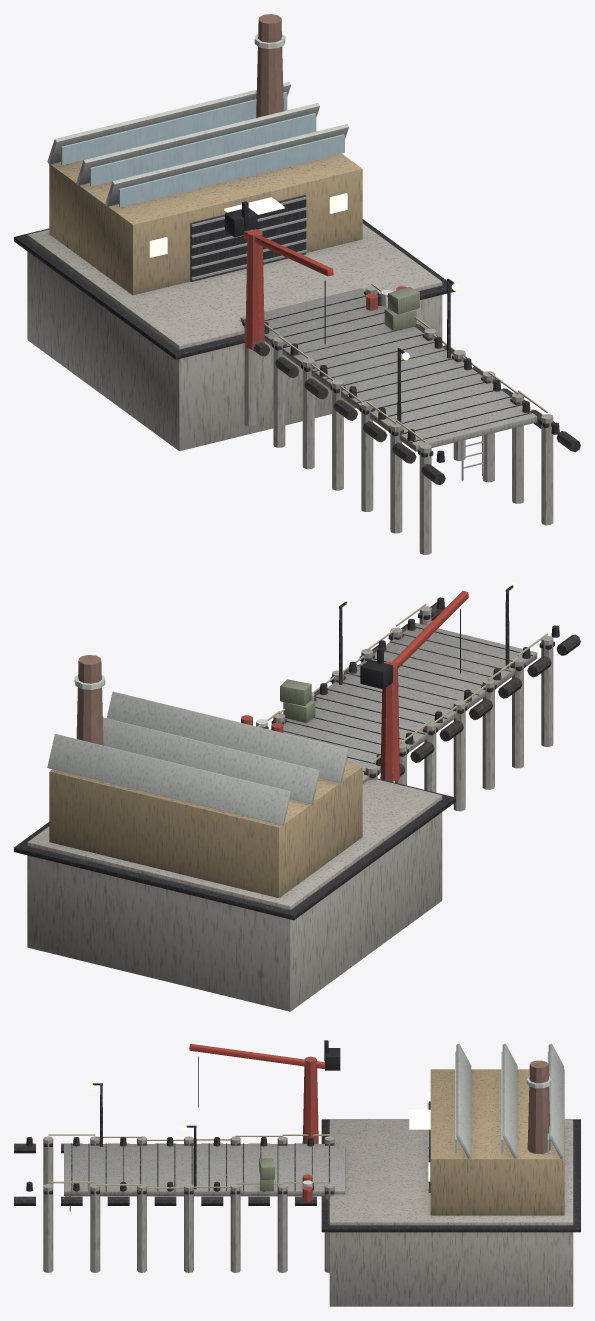
File: red_dock.glb
3 views of the same model, one above another, from view 1: azimuth 30°, elevation 25°; view 2: azimuth 150°, elevation 25°; view 3: azimuth 270°, elevation 25° (orthographic). The views are drawn at different scales.
Visible parts, largest first — view 1: Hull, Spin; view 2: Hull, Spin; view 3: Hull, Spin.
Part boxes in pixels (<box>): Hull: <box>14,14,580,554</box>; Spin: <box>225,201,333,344</box>; Hull: <box>14,583,580,1011</box>; Spin: <box>360,591,468,689</box>; Hull: <box>14,1043,580,1306</box>; Spin: <box>189,1040,340,1107</box>.
Bounding box in the file's own units: 8.3 × 8 × 18.15.
Materials: 16 (14 with a texture image).
